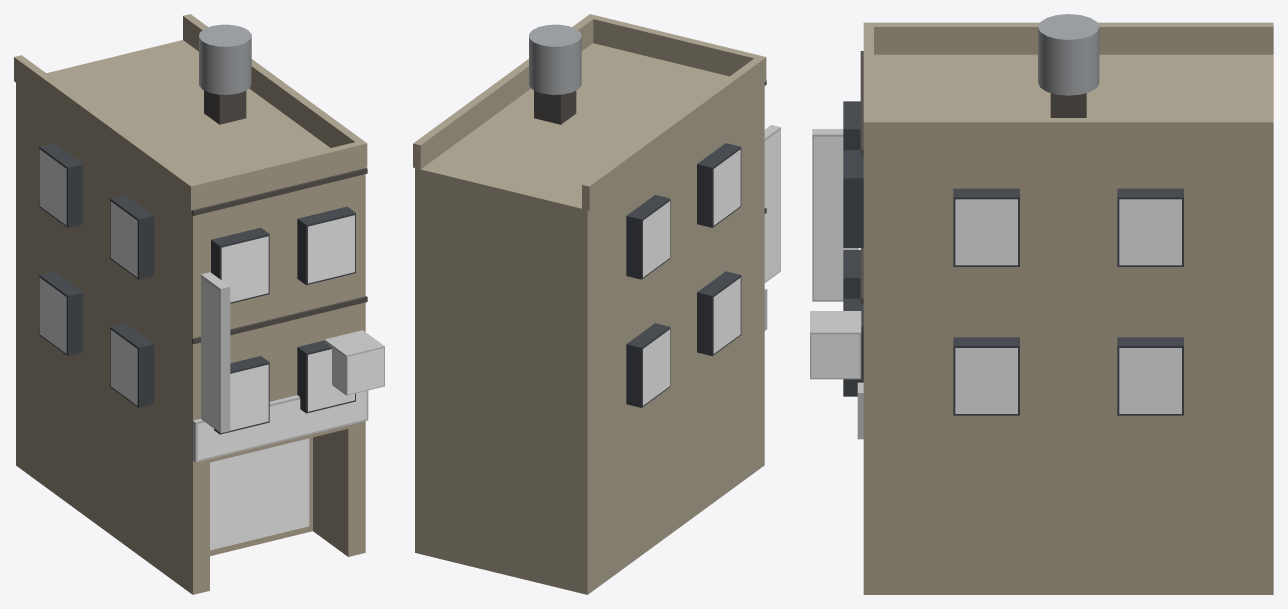
Rendered from shophouse-6.glb.
3 views of the same model, side by side, from view 1: azimuth 30°, elevation 25°; view 2: azimuth 150°, elevation 25°; view 3: azimuth 270°, elevation 25° (orthographic). The views are drawn at different scales.
Visible parts, largest first — view 1: body, decal_window, decal_storefront, decal_banner, decal_vsign, decal_cube; view 2: body, decal_window, decal_vsign; view 3: body, decal_window, decal_vsign, decal_cube.
Part boxes in pixels (box(x1,y1,x2,y2)): body: box(14, 14, 384, 594); decal_window: box(39, 149, 354, 430); decal_storefront: box(210, 438, 309, 550); decal_banner: box(197, 391, 366, 460); decal_vsign: box(201, 277, 219, 430); decal_cube: box(324, 341, 383, 394); body: box(413, 14, 780, 594); decal_window: box(643, 149, 740, 405); decal_vsign: box(764, 129, 780, 281); body: box(810, 14, 1273, 594); decal_window: box(955, 199, 1181, 413); decal_vsign: box(814, 136, 856, 299); decal_cube: box(811, 334, 859, 377).
Bounding box in the file's own units: 5.33 × 11.6 × 9.06.
